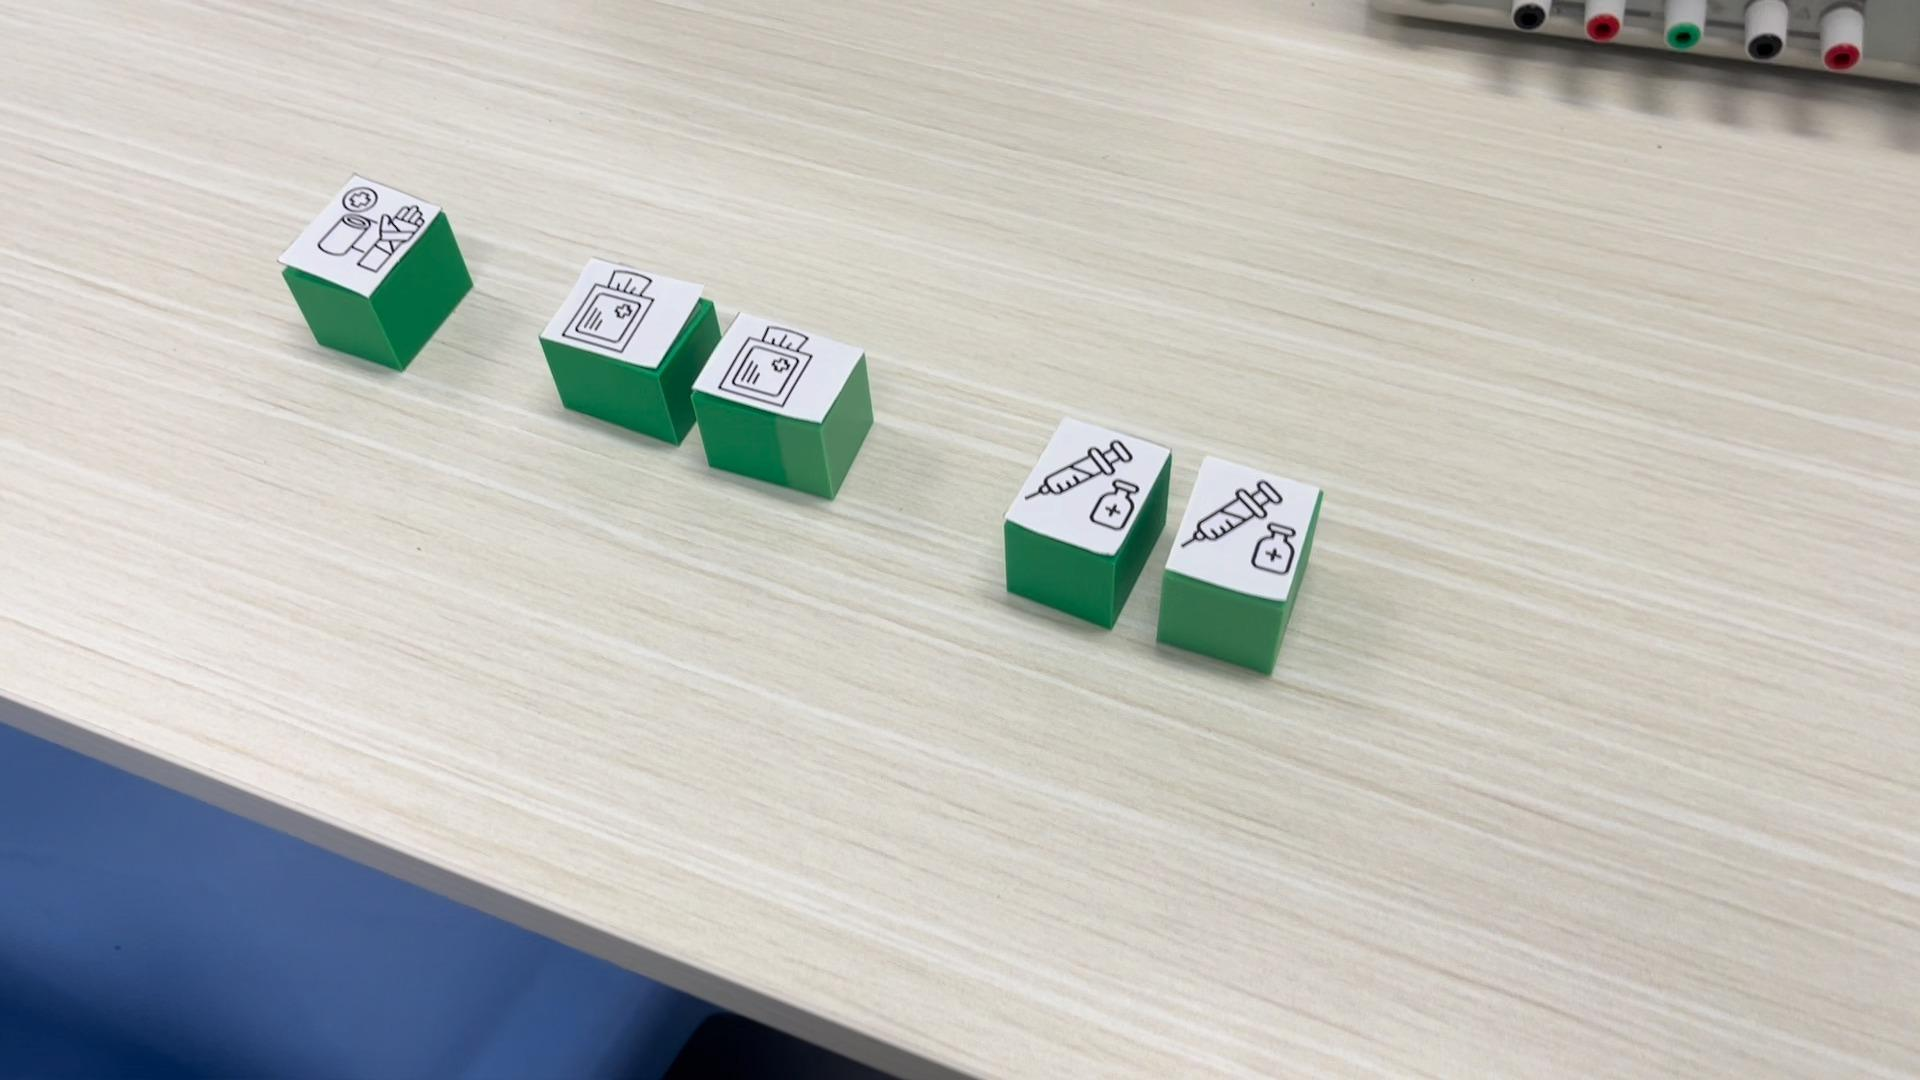Bandages: (277, 174, 473, 372)
Gauze: (533, 252, 719, 450), (690, 303, 872, 498)
antiseptic cream: (1001, 415, 1172, 633), (1158, 455, 1323, 676)
